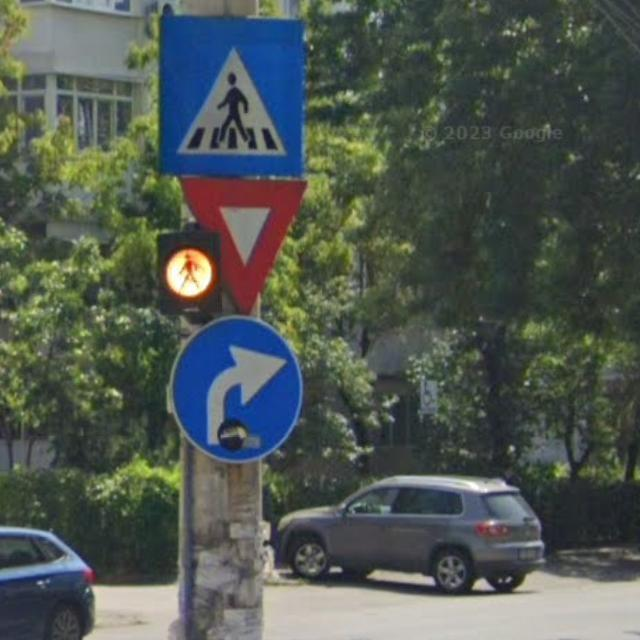info_crosswalk: (154, 13, 310, 179)
prio_give_way: (173, 178, 311, 316)
